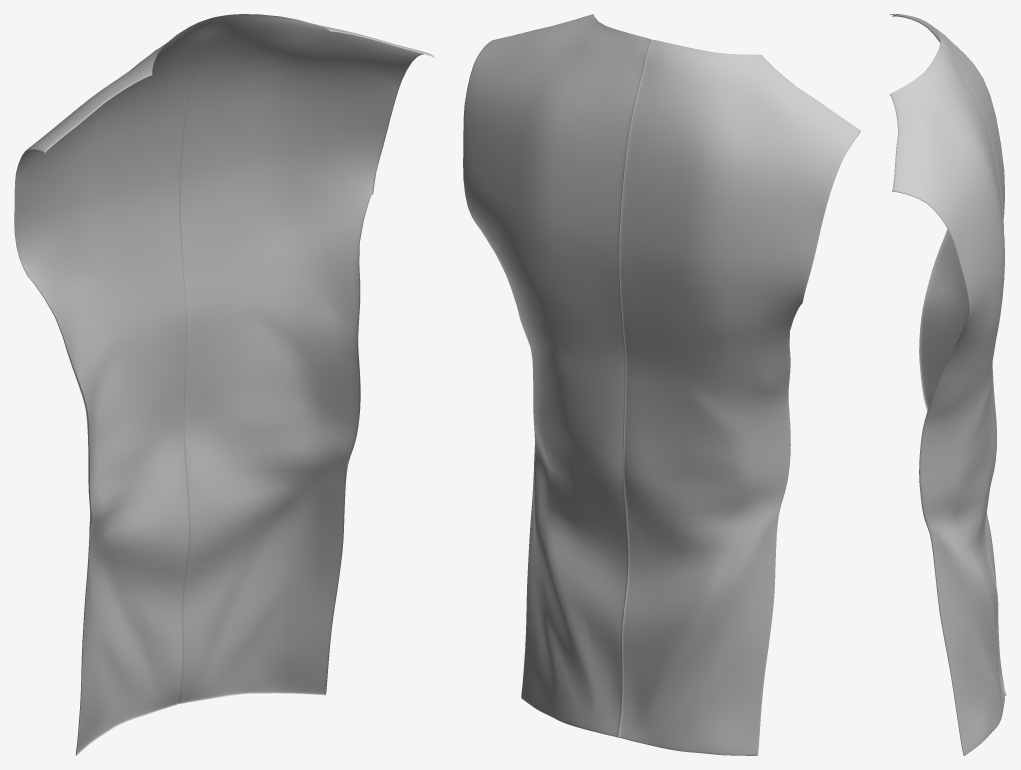
File: Full_Linning.glb
3 renders of one model, left to right at view 1: azimuth 30°, elevation 25°; view 2: azimuth 150°, elevation 25°; view 3: azimuth 270°, elevation 25°, orthographic. The views are drawn at different scales.
Visible parts, largest first — view 1: Full_Lined; view 2: Full_Lined; view 3: Full_Lined.
Boxes of the visible parts, x1=… form: Full_Lined: x1=14, y1=14, x2=434, y2=755; Full_Lined: x1=463, y1=14, x2=860, y2=755; Full_Lined: x1=889, y1=14, x2=1006, y2=755.
Size of the model in its own units: 0.0589 by 0.1027 by 0.0165.
Materials: 1 (1 with a texture image).
